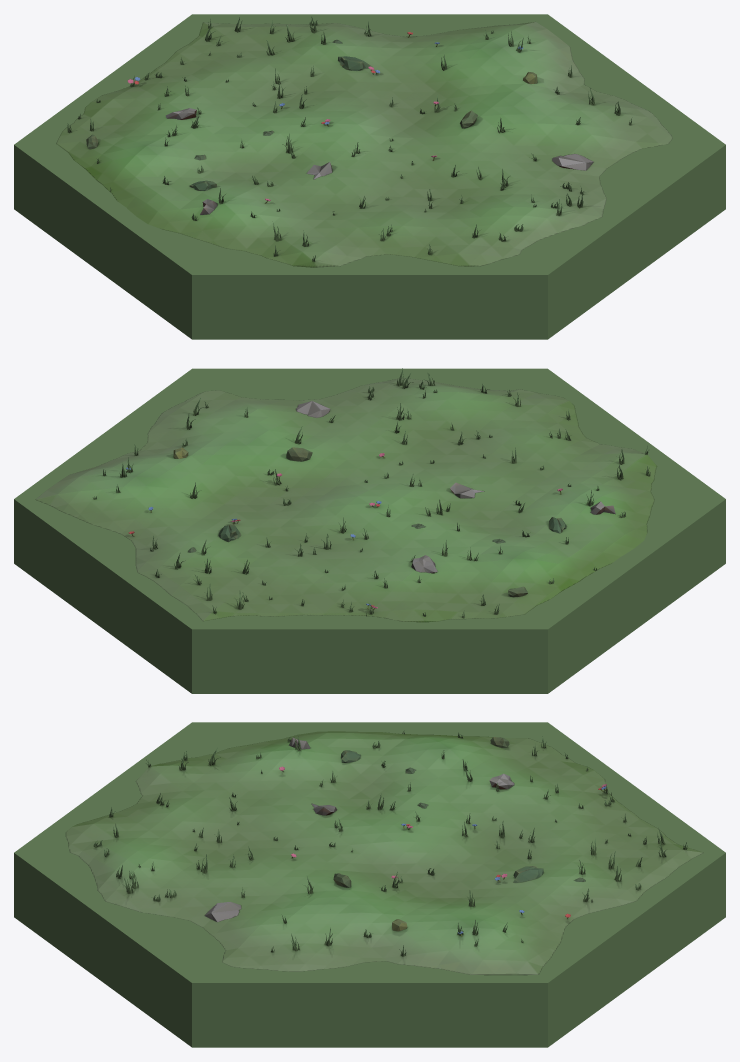
File: meadow.glb
3 views of the same model, one above another, from view 1: azimuth 30°, elevation 25°; view 2: azimuth 150°, elevation 25°; view 3: azimuth 270°, elevation 25° (orthographic).
Visible parts, largest first — view 1: Cylinder_062; view 2: Cylinder_062; view 3: Cylinder_062.
Boxes of the visible parts, box(x1,y1,x2,y2) form: Cylinder_062: box(14, 14, 725, 339); Cylinder_062: box(14, 368, 725, 693); Cylinder_062: box(14, 722, 725, 1047).
Size of the model in its own units: 17.32 by 2.88 by 20.
10 materials, 9 textured.
